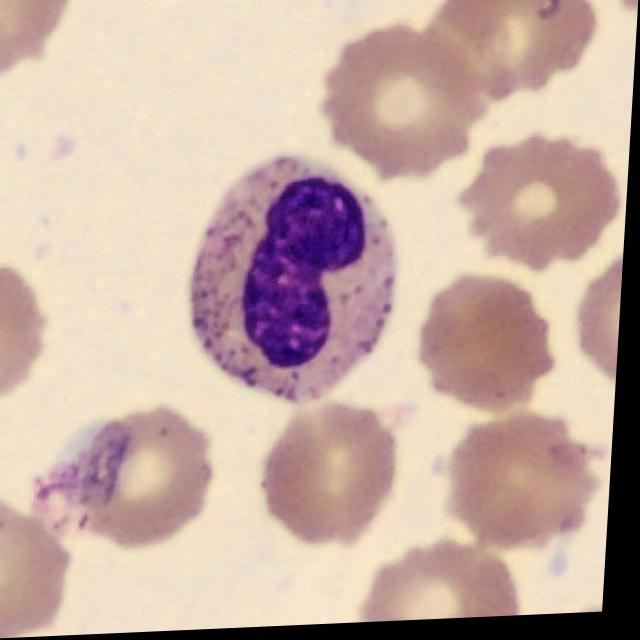Bastonete: (193, 156, 402, 405)
